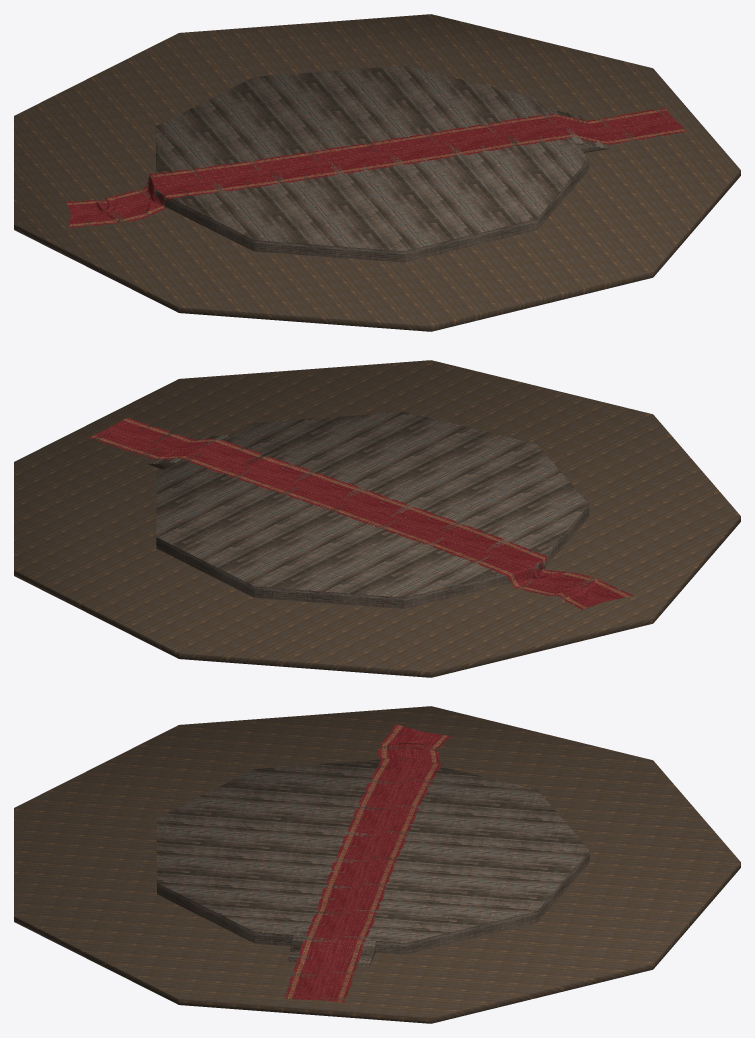
File: P_Boss_Floor01.fbx
3 renders of one model, top to bottom at view 1: azimuth 30°, elevation 25°; view 2: azimuth 150°, elevation 25°; view 3: azimuth 270°, elevation 25°, orthographic.
Parts seen in each view (by area): view 1: P_Boss_Floor01; view 2: P_Boss_Floor01; view 3: P_Boss_Floor01.
Boxes of the visible parts, bbox=[...] form: P_Boss_Floor01: bbox=[14, 14, 740, 331]; P_Boss_Floor01: bbox=[14, 360, 740, 677]; P_Boss_Floor01: bbox=[14, 706, 740, 1023].
Bounding box in the file's own units: 8889 × 236 × 8754.
